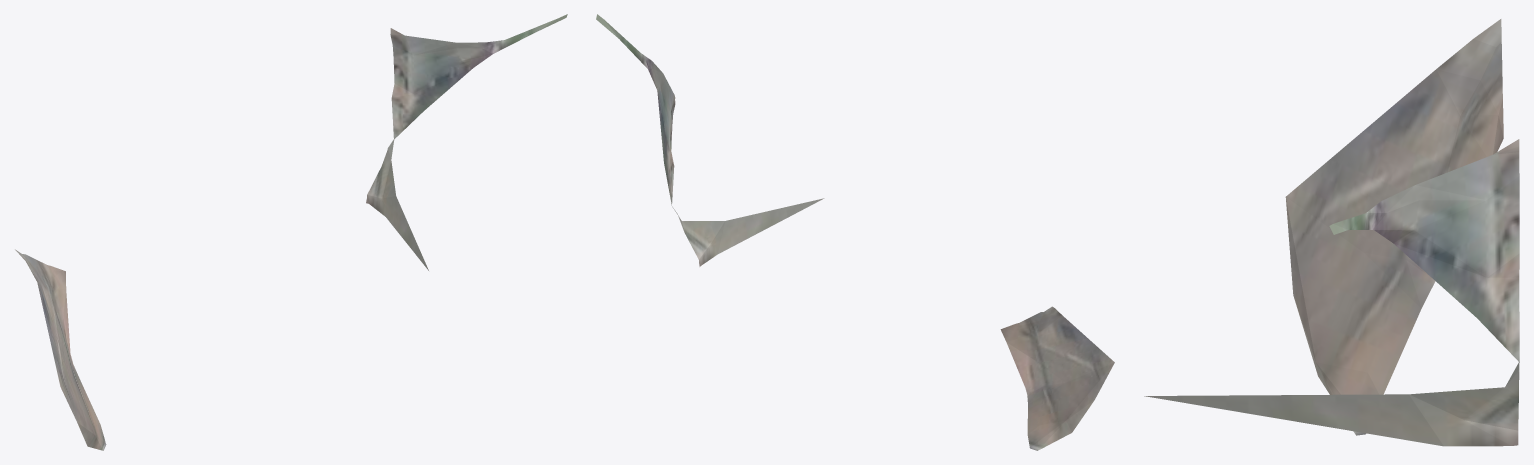
The model's file is Tile_+012_+009_L21_0000033000.glb.
3 views of the same model, side by side, from view 1: azimuth 30°, elevation 25°; view 2: azimuth 150°, elevation 25°; view 3: azimuth 270°, elevation 25° (orthographic). The views are drawn at different scales.
Visible parts, largest first — view 1: rtc; view 2: rtc; view 3: rtc.
Boxes of the visible parts, x1,y1,x2,y2 form: rtc: (15,14,567,450); rtc: (596,14,1114,450); rtc: (1144,19,1519,446).
Bounding box in the file's own units: 53.52 × 32.58 × 17.2.
1 material, 1 textured.
